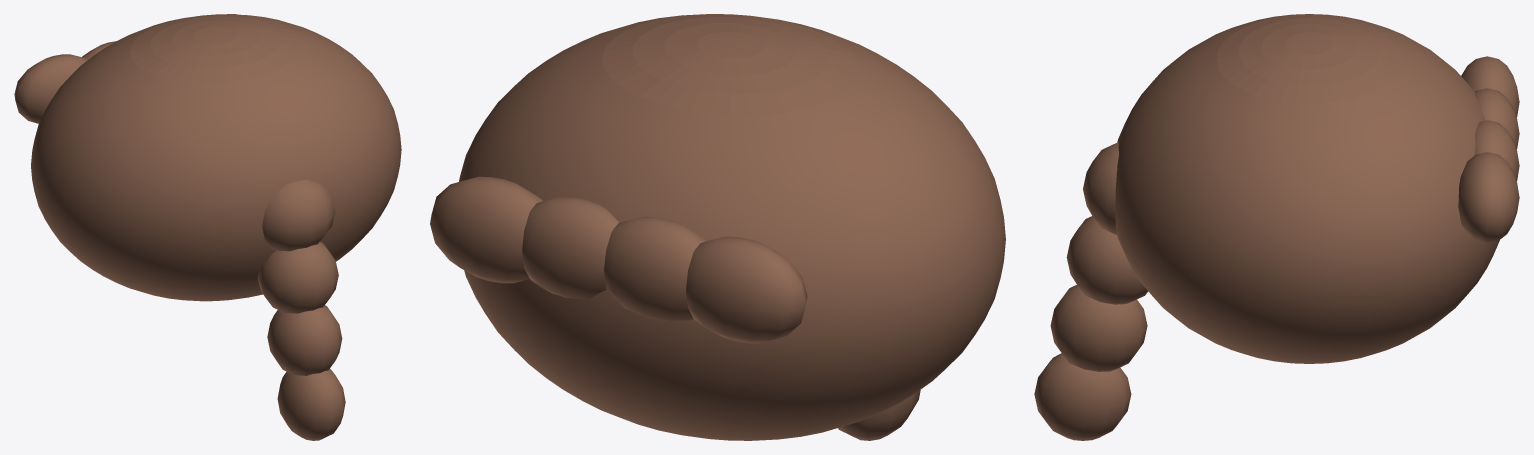
File: Hair_Ponytail.fbx
3 views of the same model, side by side, from view 1: azimuth 30°, elevation 25°; view 2: azimuth 150°, elevation 25°; view 3: azimuth 270°, elevation 25° (orthographic). The views are drawn at different scales.
Parts seen in each view (by area): view 1: Hair, Ponytail.001, Ponytail.002, Ponytail, Ponytail.003, Hair_Bang.003; view 2: Hair, Hair_Bang.003, Hair_Bang, Hair_Bang.002, Hair_Bang.001, Ponytail.003; view 3: Hair, Ponytail.003, Ponytail.002, Hair_Bang, Ponytail.001, Ponytail, Hair_Bang.003, Hair_Bang.001, Hair_Bang.002.
Boxes of the visible parts, box(x1,y1,x2,y2) form: Hair: box(31, 14, 401, 301); Ponytail.001: box(257, 241, 338, 313); Ponytail.002: box(267, 305, 342, 375); Ponytail: box(262, 179, 335, 251); Ponytail.003: box(277, 369, 345, 440); Hair_Bang.003: box(14, 54, 87, 123); Hair: box(459, 14, 1005, 440); Hair_Bang.003: box(686, 236, 807, 343); Hair_Bang: box(430, 176, 542, 283); Hair_Bang.002: box(604, 216, 706, 321); Hair_Bang.001: box(522, 196, 619, 299); Ponytail.003: box(838, 390, 920, 440); Hair: box(1115, 14, 1499, 363); Ponytail.003: box(1034, 353, 1131, 440); Ponytail.002: box(1050, 285, 1147, 371); Hair_Bang: box(1458, 152, 1519, 243); Ponytail.001: box(1066, 216, 1147, 304); Ponytail: box(1083, 142, 1118, 234); Hair_Bang.003: box(1461, 56, 1519, 117); Hair_Bang.001: box(1474, 120, 1519, 181); Hair_Bang.002: box(1475, 88, 1519, 149).
Size of the model in its own units: 84 by 81 by 90.
